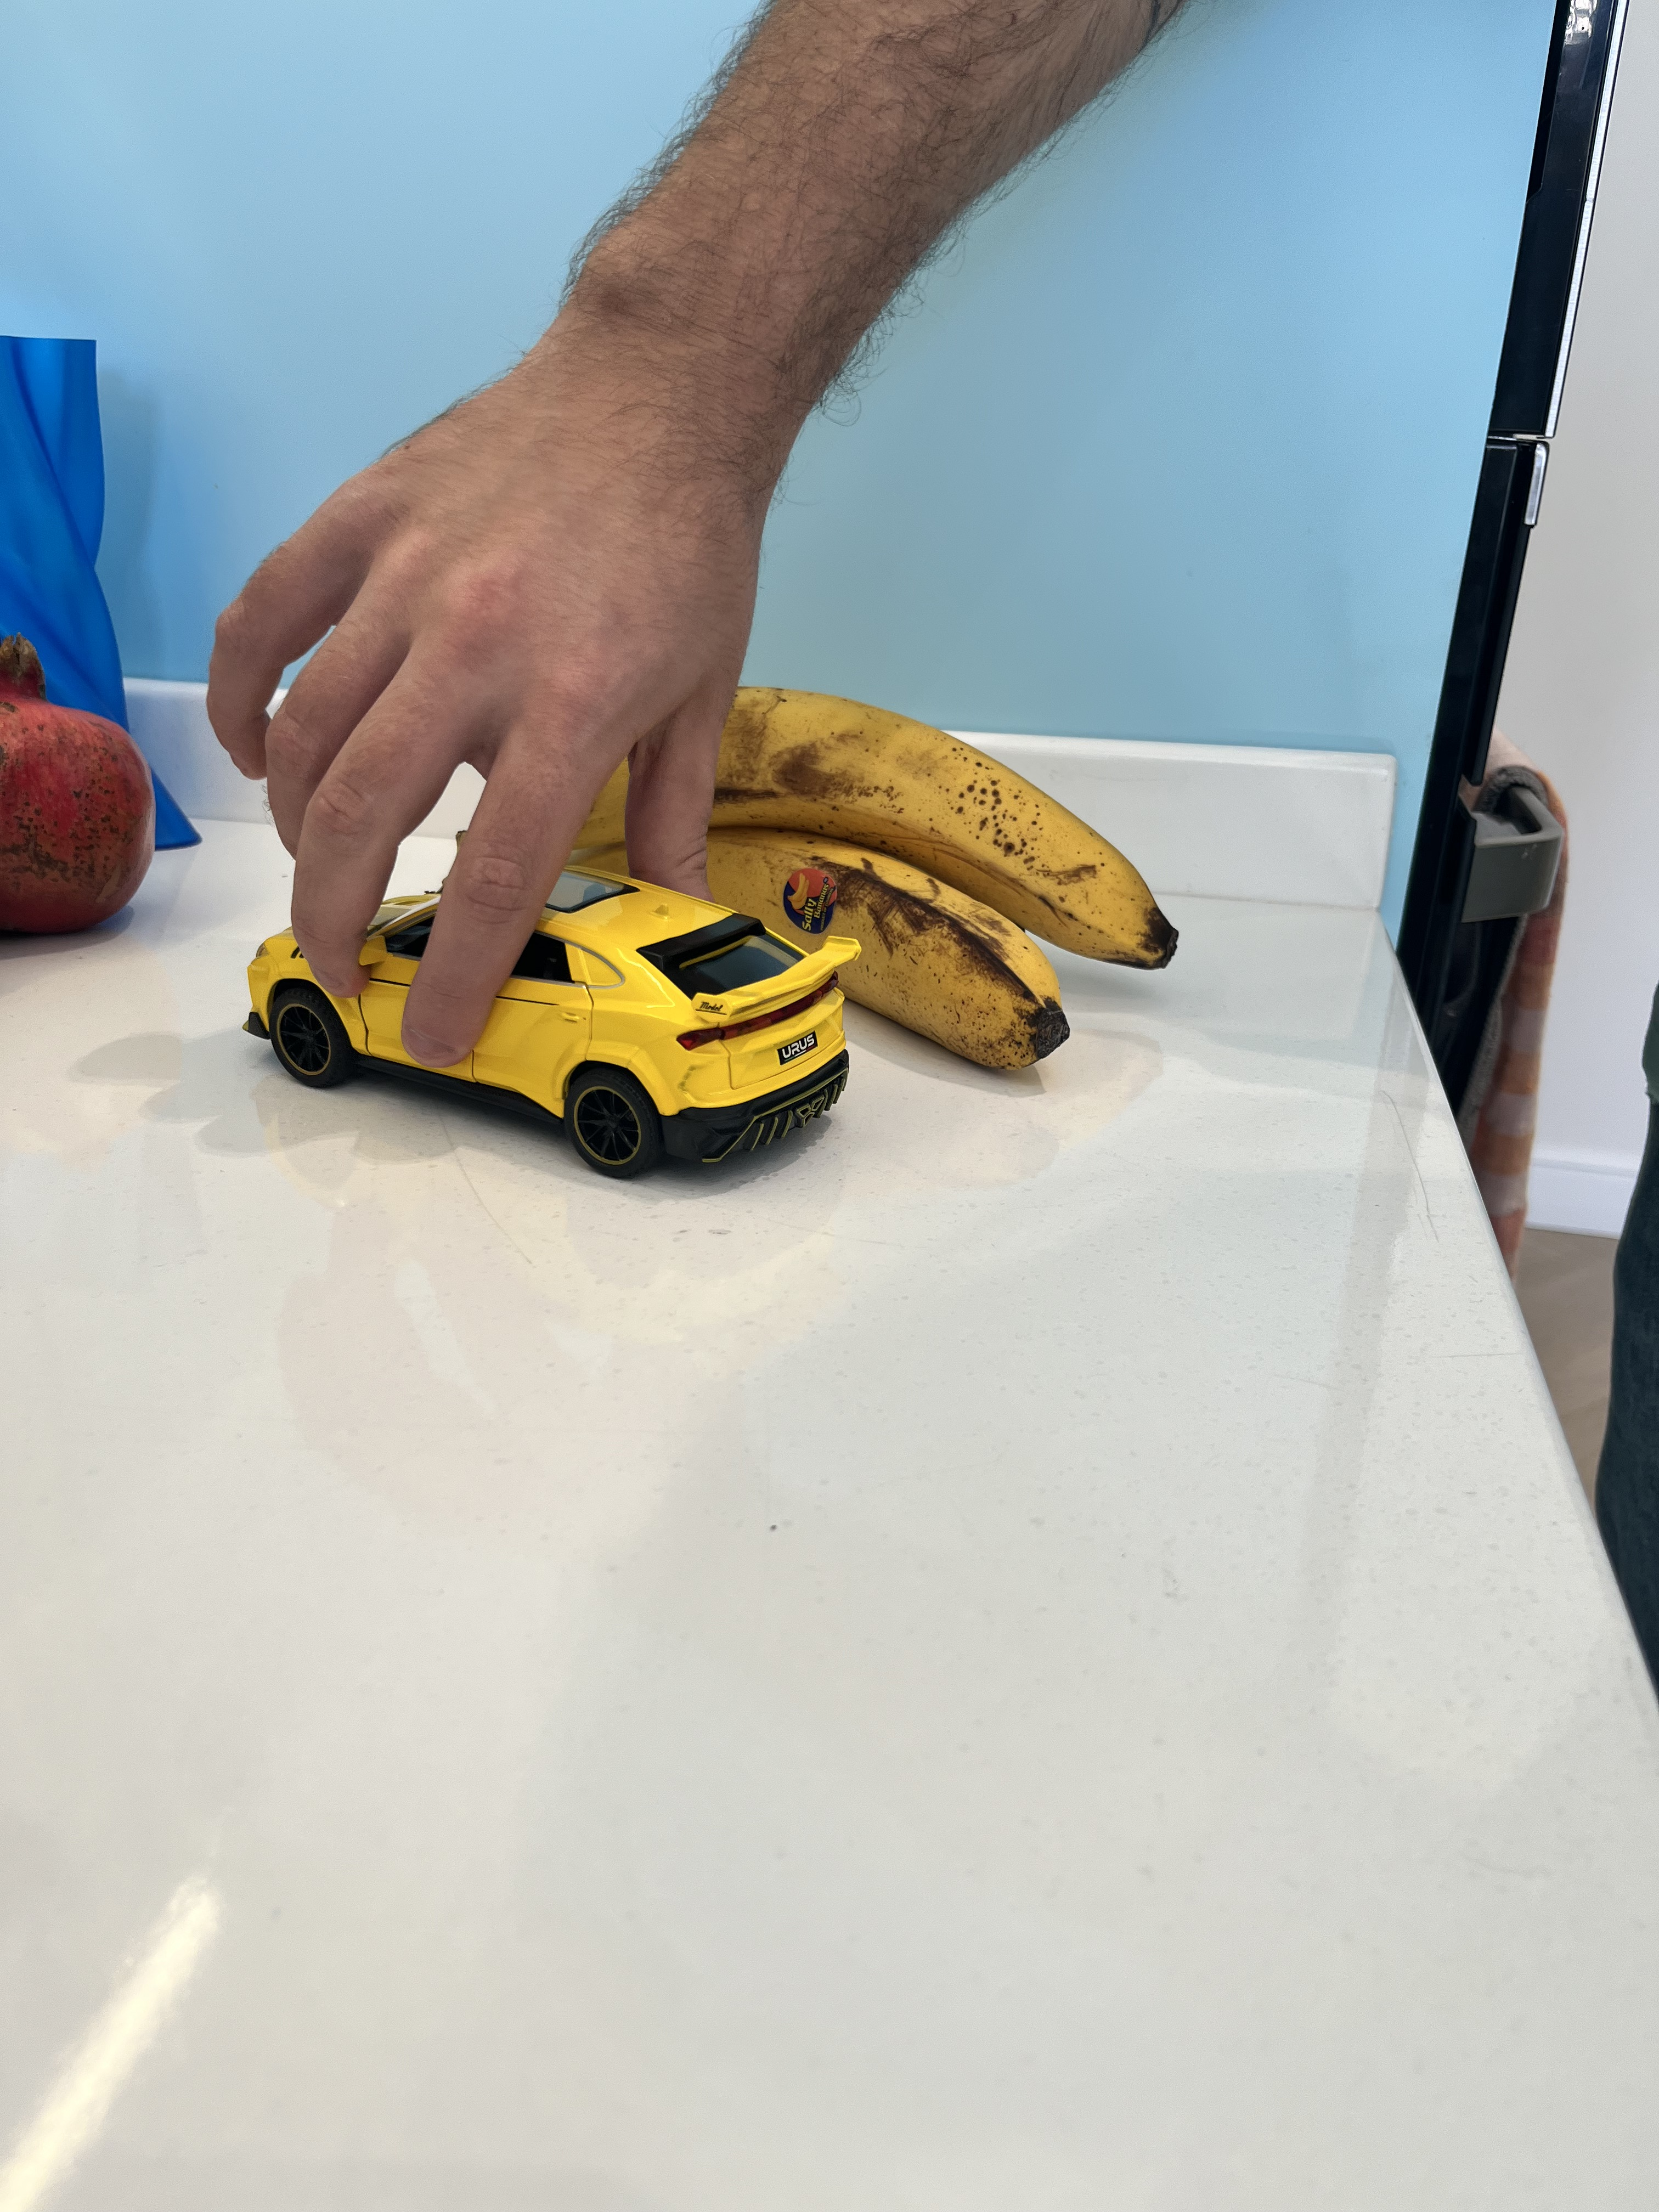lambo: (200, 843, 882, 1170)
